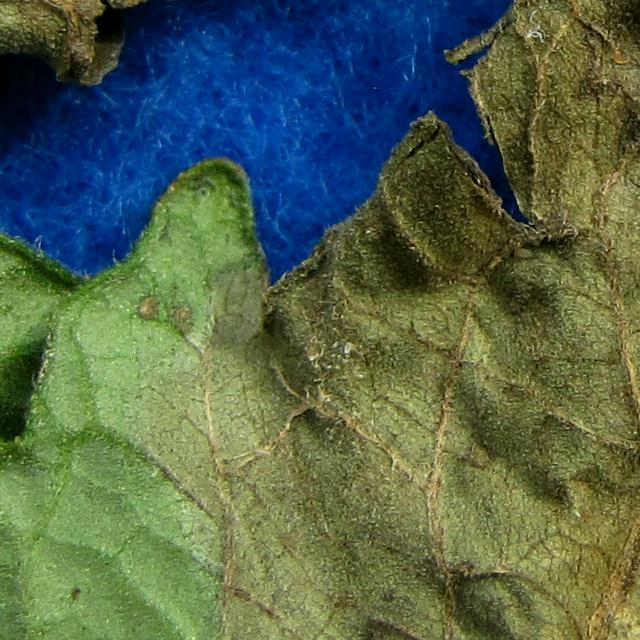Tomato leaf late blight: (0, 0, 640, 640)
